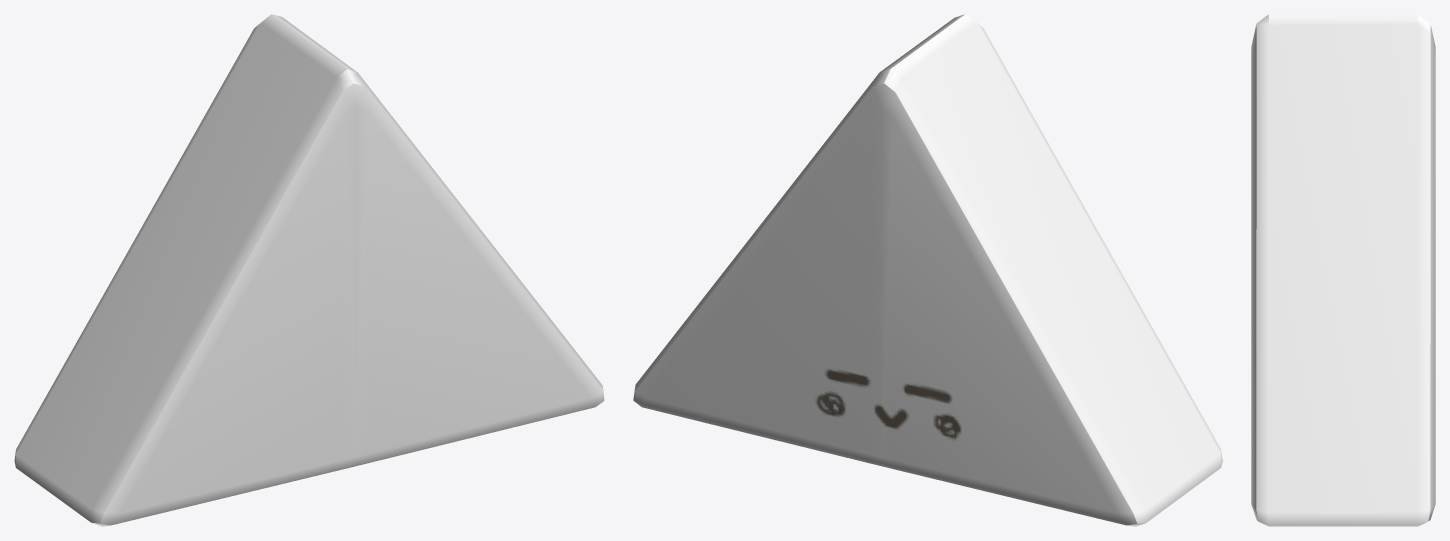
The model's file is Oden_Hanpen.gltf.
The picture shows the model from 3 angles, left to right: view 1: azimuth 30°, elevation 25°; view 2: azimuth 150°, elevation 25°; view 3: azimuth 270°, elevation 25°; orthographic projection.
Visible parts, largest first — view 1: Oden_Hanpen; view 2: Oden_Hanpen; view 3: Oden_Hanpen.
Boxes of the visible parts, left/top/right/bottom form: Oden_Hanpen: left=14, top=14, right=604, bottom=526; Oden_Hanpen: left=633, top=14, right=1222, bottom=526; Oden_Hanpen: left=1251, top=14, right=1435, bottom=526.
Size of the model in its own units: 1.91 by 1.42 by 0.6.
Materials: 1 (1 with a texture image).
